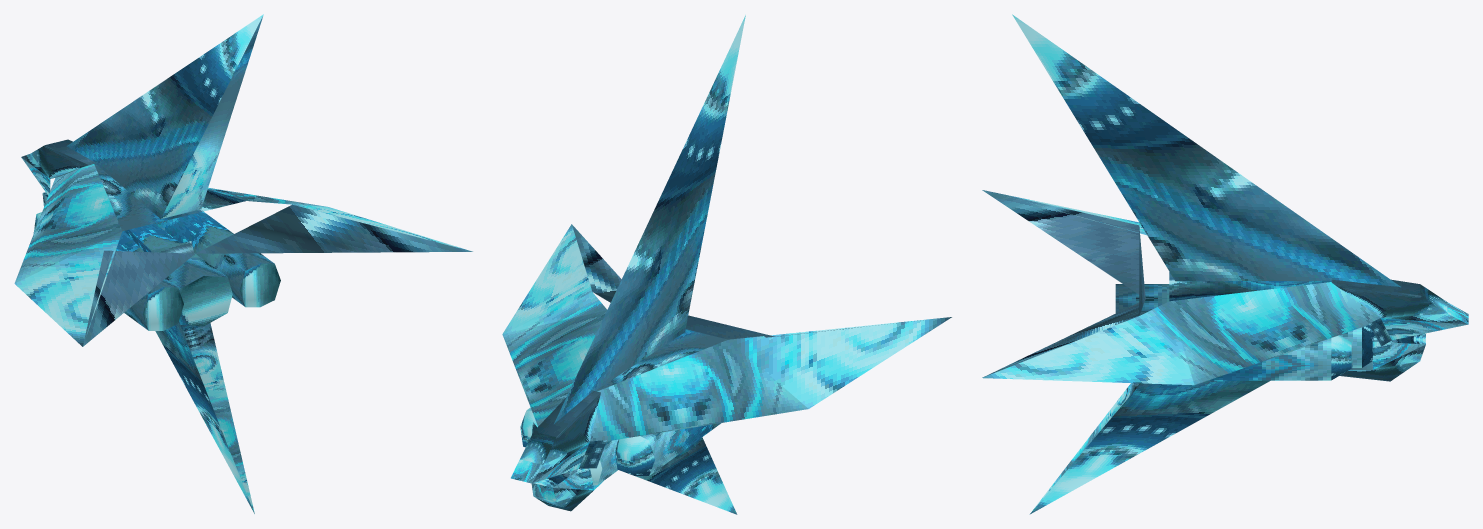
The model's file is sshighcouncil_3db.gltf.
3 renders of one model, left to right at view 1: azimuth 30°, elevation 25°; view 2: azimuth 150°, elevation 25°; view 3: azimuth 270°, elevation 25°, orthographic. The views are drawn at different scales.
Parts seen in each view (by area): view 1: sshighcouncil.3db; view 2: sshighcouncil.3db; view 3: sshighcouncil.3db.
Part boxes in pixels (x1,y1,x2,y2): sshighcouncil.3db: [14, 14, 472, 513]; sshighcouncil.3db: [502, 15, 951, 514]; sshighcouncil.3db: [982, 14, 1468, 514].
Bounding box in the file's own units: 6.48 × 8.05 × 7.09.
Materials: 1 (1 with a texture image).
